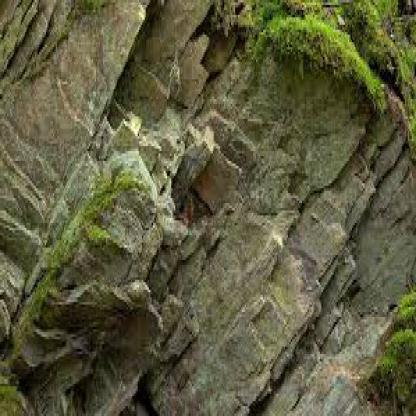Metamorphic_Quartize: (190, 134, 386, 414), (14, 104, 185, 404)
